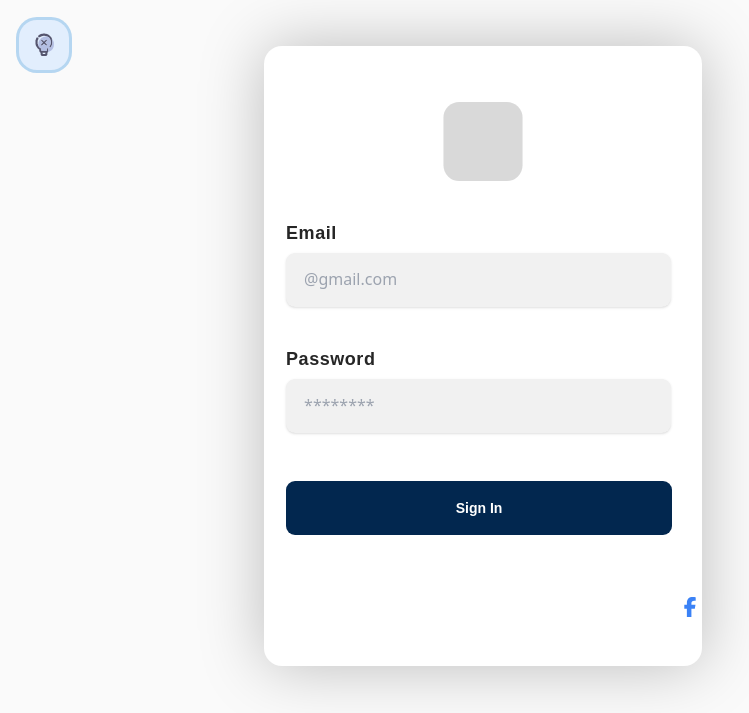
Test case: Login Tests › displays error message when no data is entered
Click the submit button: (479, 508) [286, 481, 672, 535]
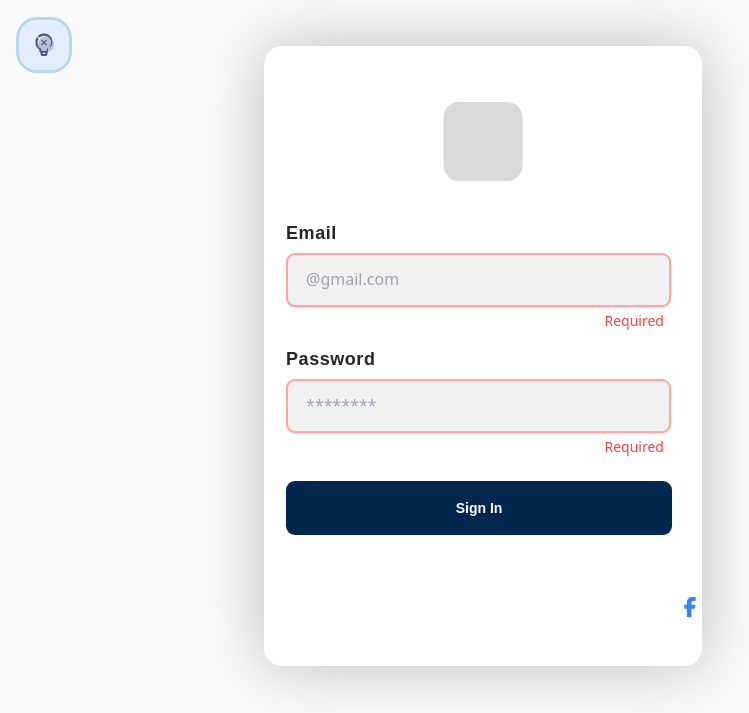
Now the 1st text "Required" is shown, box [604, 311, 664, 330]
